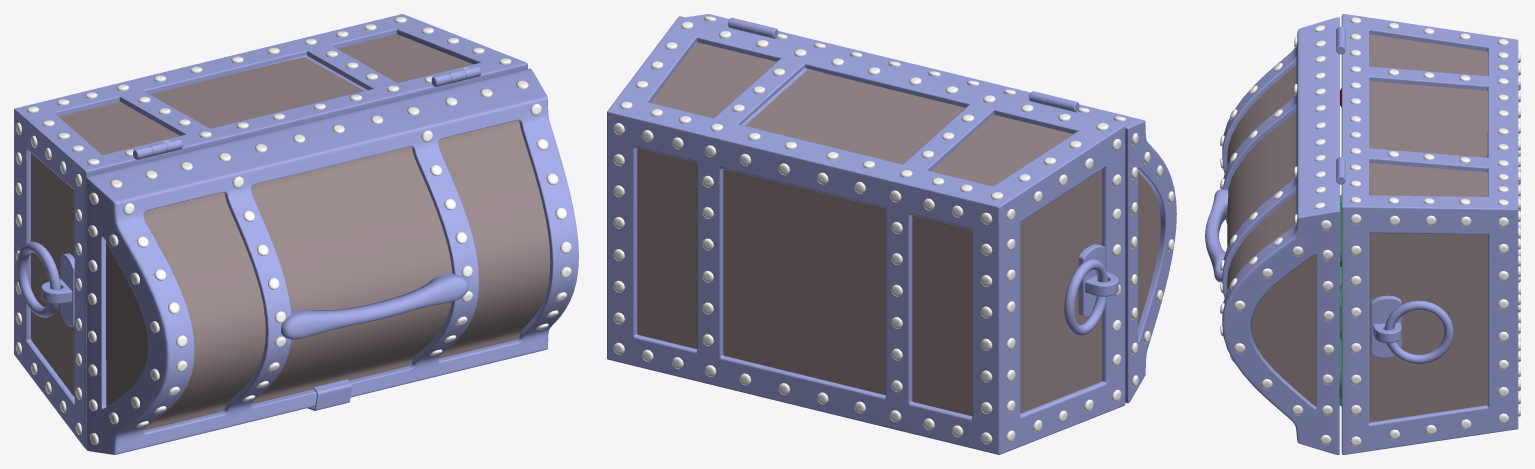
The model's file is takaraTozi.fbx.
The picture shows the model from 3 angles, left to right: view 1: azimuth 30°, elevation 25°; view 2: azimuth 150°, elevation 25°; view 3: azimuth 270°, elevation 25°; orthographic projection. The views are drawn at different scales.
Visible parts, largest first — view 1: _aquarium_treasure_chest_v1_L2:aquarium_treasure_chest_metal, _aquarium_treasure_chest_v1_L2:aquarium_treasure_chest_wood, _aquarium_treasure_chest_v1_L2:aquarium_treasure_chest_bolts, _aquarium_treasure_chest_v1_L2:aquarium_treasure_chest_latch; view 2: _aquarium_treasure_chest_v1_L2:aquarium_treasure_chest_wood, _aquarium_treasure_chest_v1_L2:aquarium_treasure_chest_metal, _aquarium_treasure_chest_v1_L2:aquarium_treasure_chest_bolts, _aquarium_treasure_chest_v1_L2:aquarium_treasure_chest_latch; view 3: _aquarium_treasure_chest_v1_L2:aquarium_treasure_chest_metal, _aquarium_treasure_chest_v1_L2:aquarium_treasure_chest_wood, _aquarium_treasure_chest_v1_L2:aquarium_treasure_chest_bolts, _aquarium_treasure_chest_v1_L2:aquarium_treasure_chest_latch, _aquarium_treasure_chest_v1_L2:aquarium_treasure_chest_stone.
Part boxes in pixels (x1,y1,x2,y2): _aquarium_treasure_chest_v1_L2:aquarium_treasure_chest_metal: (14,14,578,454); _aquarium_treasure_chest_v1_L2:aquarium_treasure_chest_wood: (31,34,550,430); _aquarium_treasure_chest_v1_L2:aquarium_treasure_chest_bolts: (15,17,571,444); _aquarium_treasure_chest_v1_L2:aquarium_treasure_chest_latch: (41,66,481,410); _aquarium_treasure_chest_v1_L2:aquarium_treasure_chest_wood: (637,42,1160,416); _aquarium_treasure_chest_v1_L2:aquarium_treasure_chest_metal: (607,14,1176,454); _aquarium_treasure_chest_v1_L2:aquarium_treasure_chest_bolts: (613,16,1174,444); _aquarium_treasure_chest_v1_L2:aquarium_treasure_chest_latch: (728,17,1118,317); _aquarium_treasure_chest_v1_L2:aquarium_treasure_chest_metal: (1205,14,1518,454); _aquarium_treasure_chest_v1_L2:aquarium_treasure_chest_wood: (1227,34,1487,422); _aquarium_treasure_chest_v1_L2:aquarium_treasure_chest_bolts: (1220,17,1520,446); _aquarium_treasure_chest_v1_L2:aquarium_treasure_chest_latch: (1336,26,1401,358); _aquarium_treasure_chest_v1_L2:aquarium_treasure_chest_stone: (1339,195,1341,406).
Bounding box in the file's own units: 14.7 × 8.74 × 9.45.
